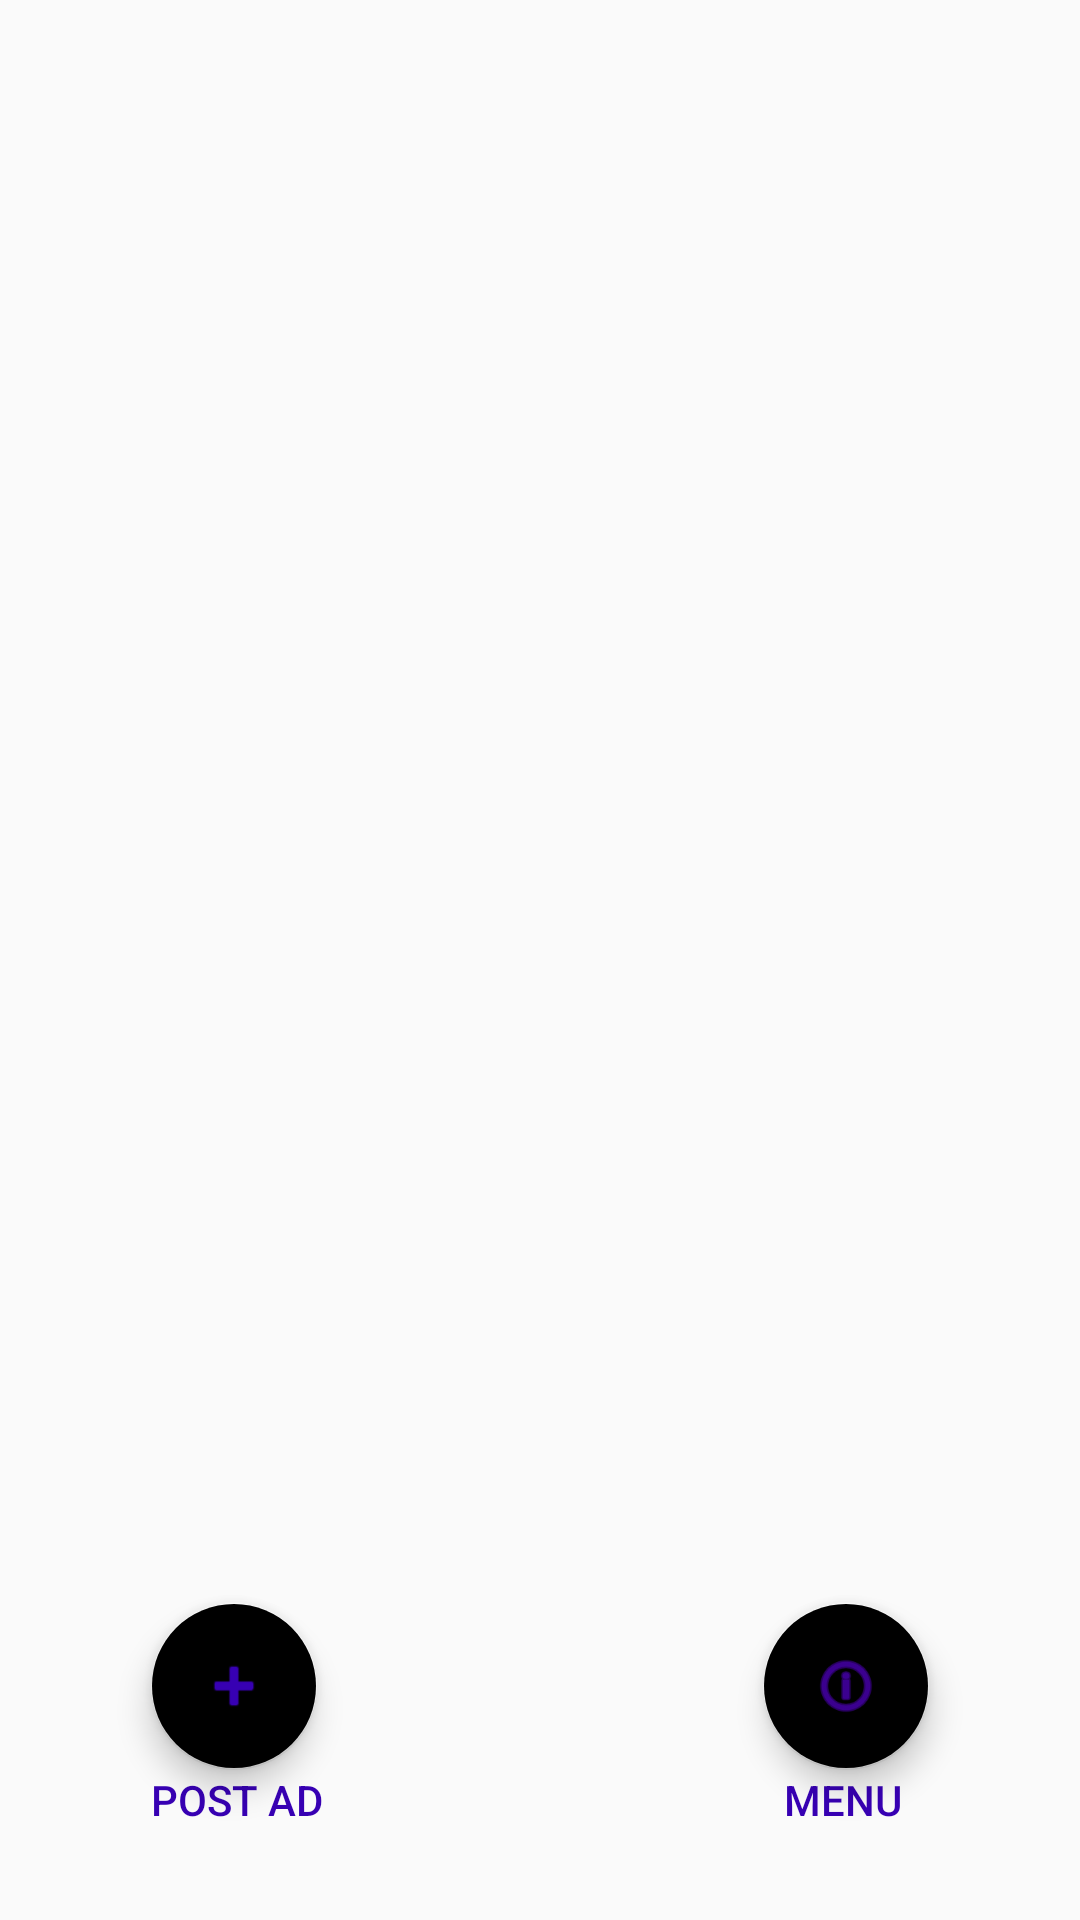

Locate icon controls on the screen. Image size 1080px×1920px, boxes as (x1, y1, x2, y2).
add: (150, 1604, 317, 1770)
info details: (763, 1604, 930, 1770)
